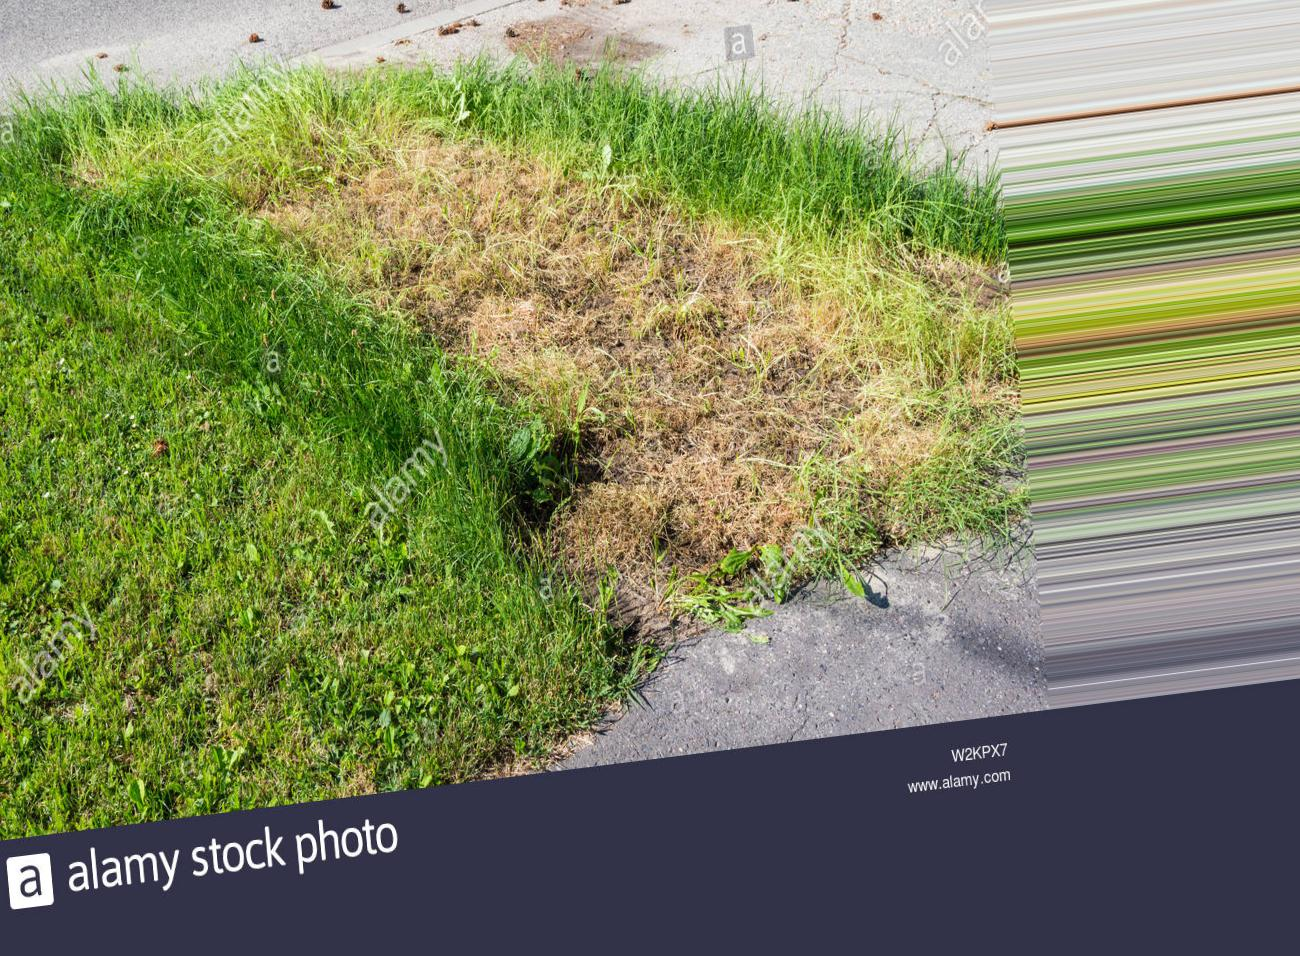patch: (476, 300, 975, 562), (641, 240, 959, 482), (255, 110, 595, 291)
